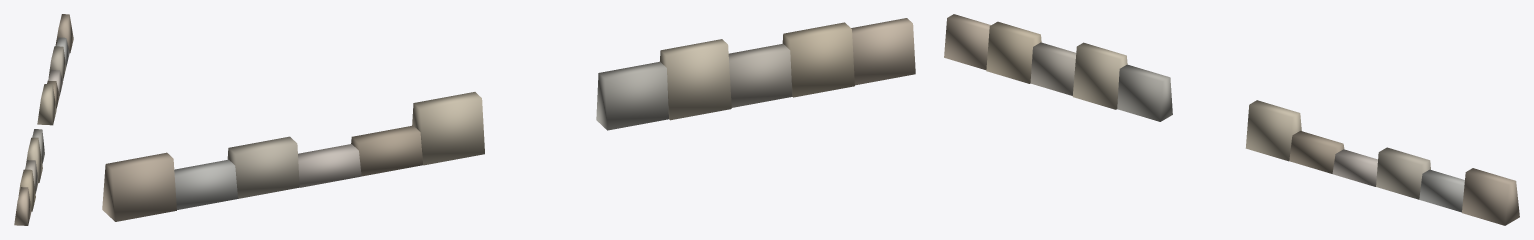
File: farm_-24_-28_collision.glb
3 renders of one model, left to right at view 1: azimuth 30°, elevation 25°; view 2: azimuth 150°, elevation 25°; view 3: azimuth 270°, elevation 25°, orthographic. The views are drawn at different scales.
Visible parts, largest first — view 1: geometry_0; view 2: geometry_0; view 3: geometry_0.
Boxes of the visible parts, x1=… form: geometry_0: x1=14, y1=14, x2=73, y2=225; geometry_0: x1=102, y1=18, x2=915, y2=221; geometry_0: x1=944, y1=14, x2=1519, y2=225.
Bounding box in the file's own units: 12.32 × 1.58 × 16.69.
